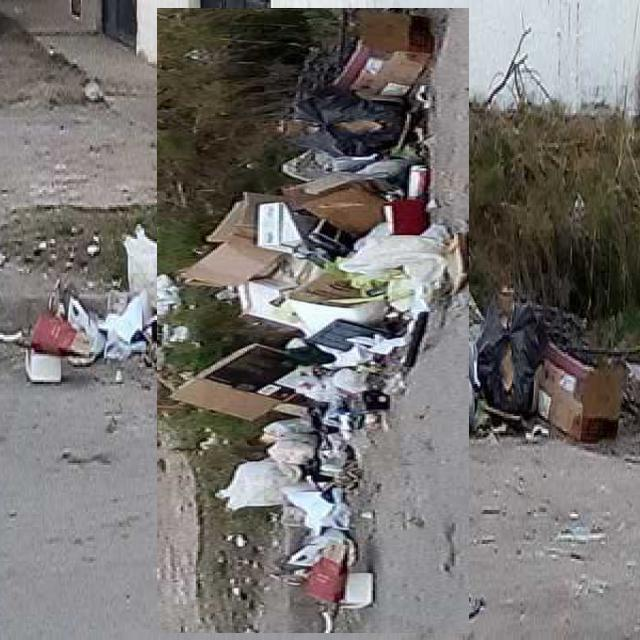Trashbag: (472, 302, 558, 426), (279, 86, 410, 167)
